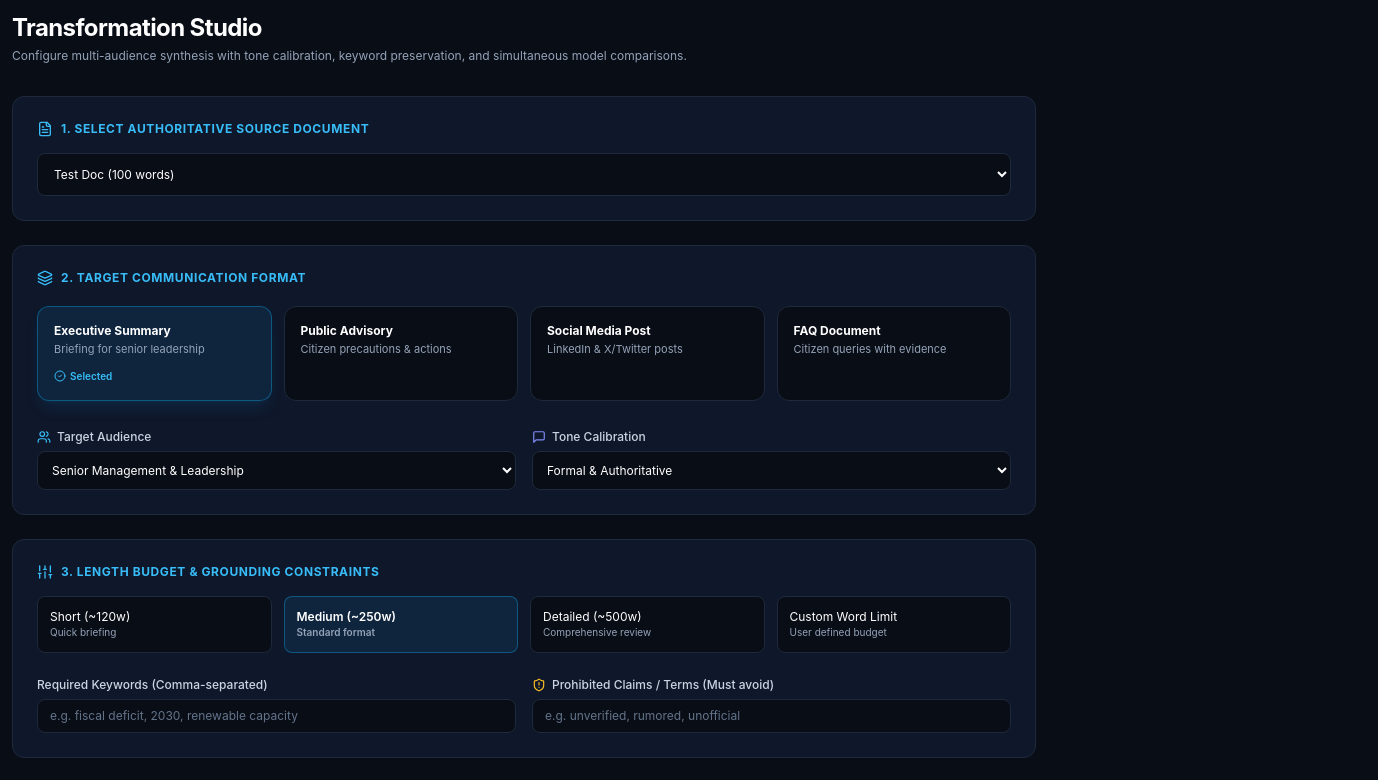
it: TransformationStudioPage › allows length target selection
The image size is (1378, 780).
Expected: the text "Short (~120w)" is shown, x1=50 y1=609 x2=130 y2=624
Expected: the text "Medium (~250w)" is shown, x1=296 y1=609 x2=396 y2=624
# Click on Detailed
Click the text "Detailed (~500w)" at point(592, 616), box x1=543 y1=609 x2=642 y2=624
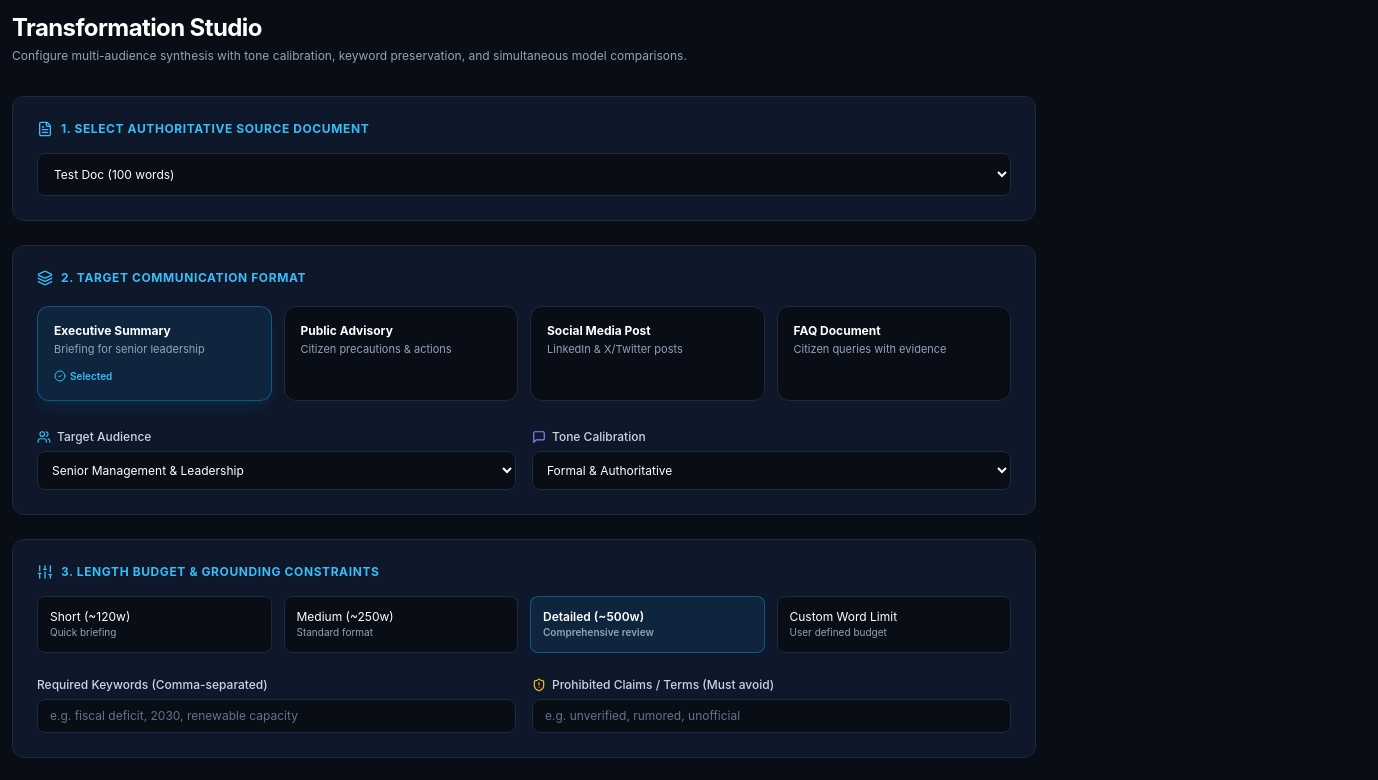
Now the button "Detailed (~500w) Comprehensive review" has class "bg-sky-500/10", box x1=530 y1=596 x2=764 y2=653
